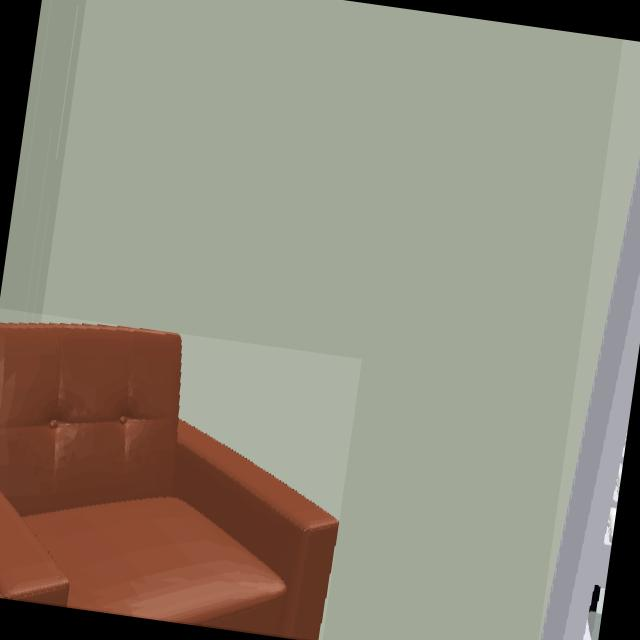sofa: (0, 323, 337, 640)
wardrobe: (541, 262, 640, 640)
